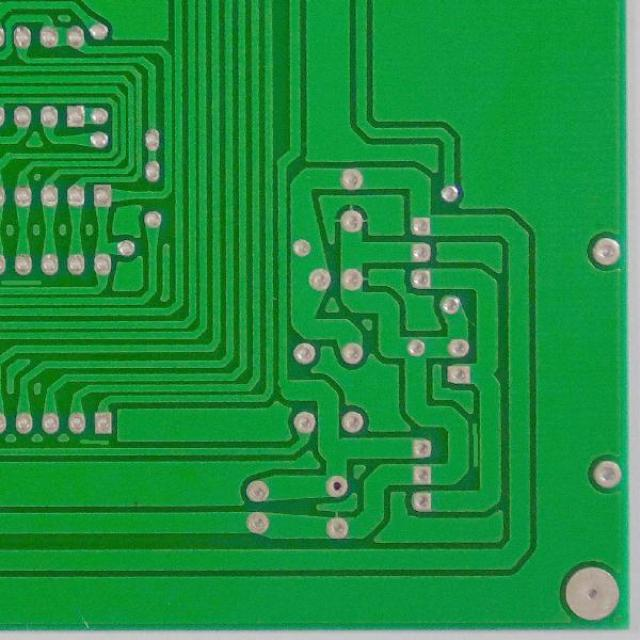Missing_Hole: (324, 474, 350, 498)
Spurious_Cooper: (469, 420, 480, 470), (1, 276, 46, 286), (76, 435, 112, 447)
